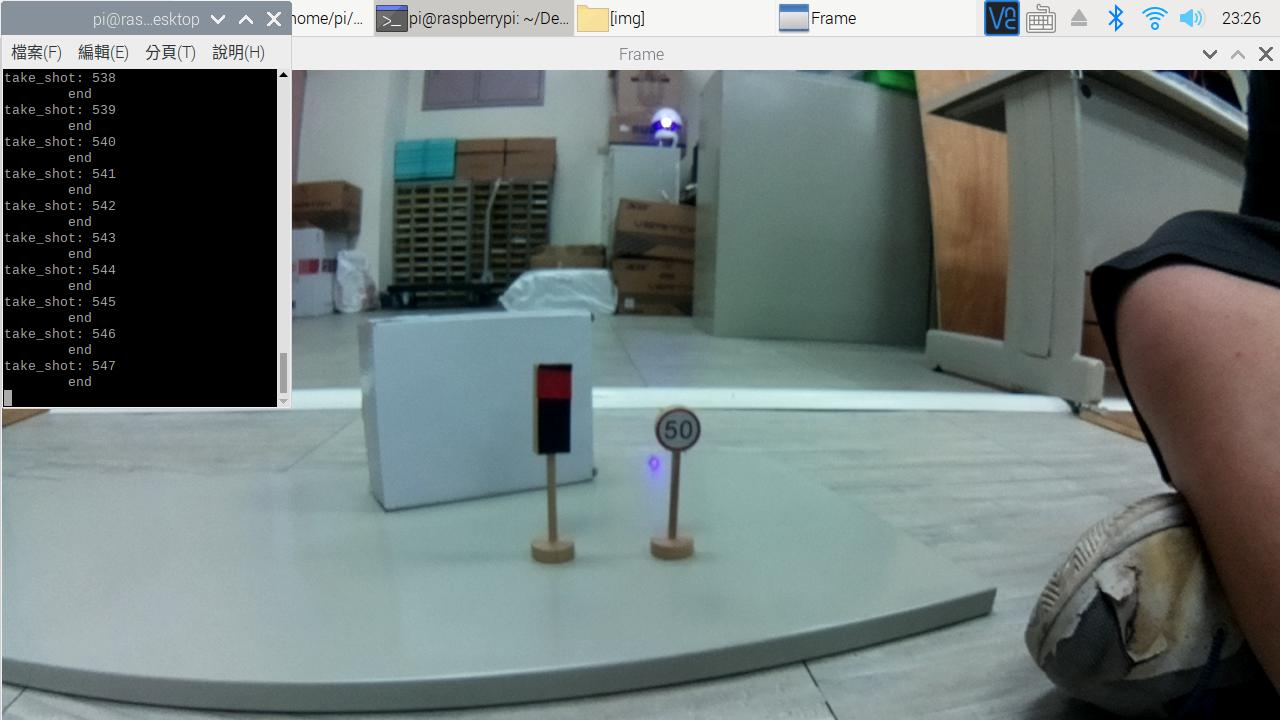Red: (522, 359, 592, 466)
Speed50: (652, 403, 708, 455)
